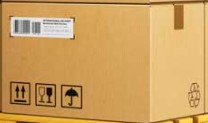stock: (1, 1, 205, 122)
